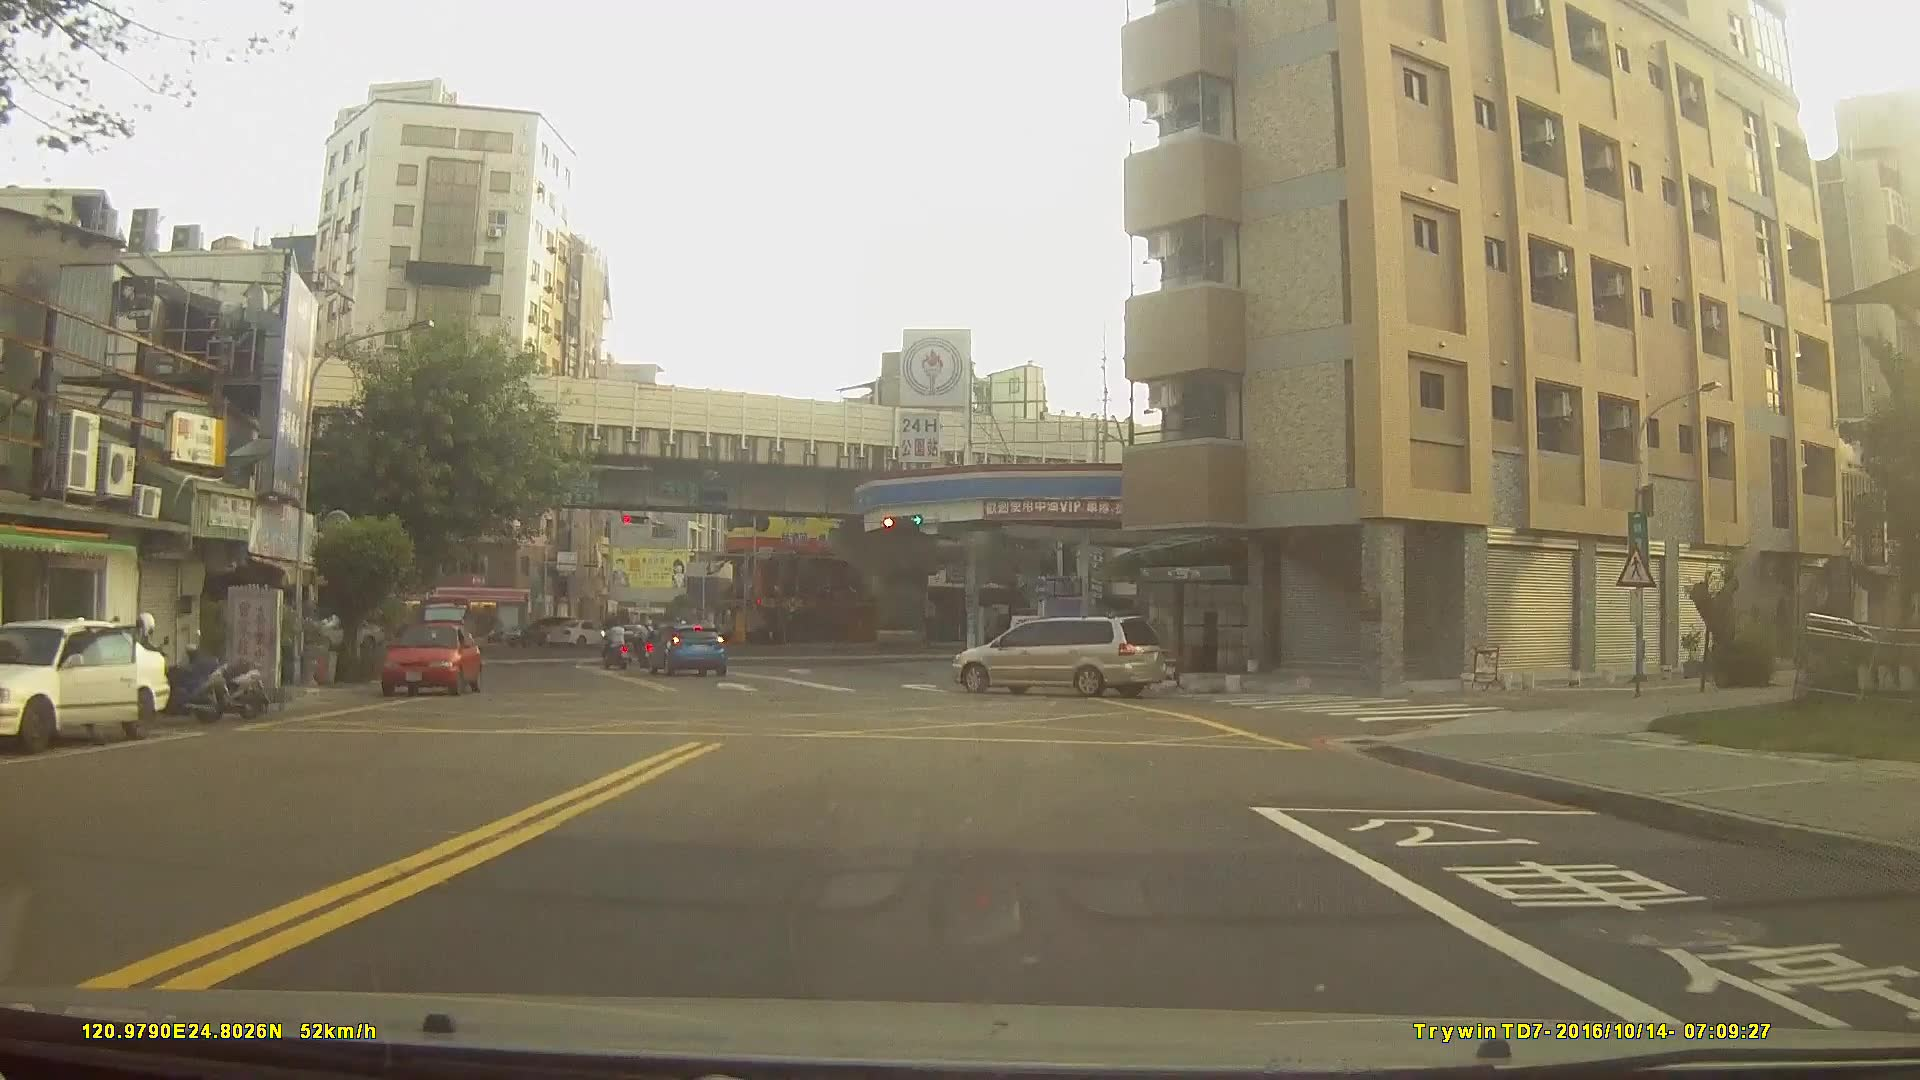rider: (601, 618, 632, 669)
vehicle: (0, 617, 169, 750), (948, 615, 1163, 698), (379, 620, 484, 695), (643, 624, 726, 677), (499, 614, 575, 646), (543, 616, 615, 645)
